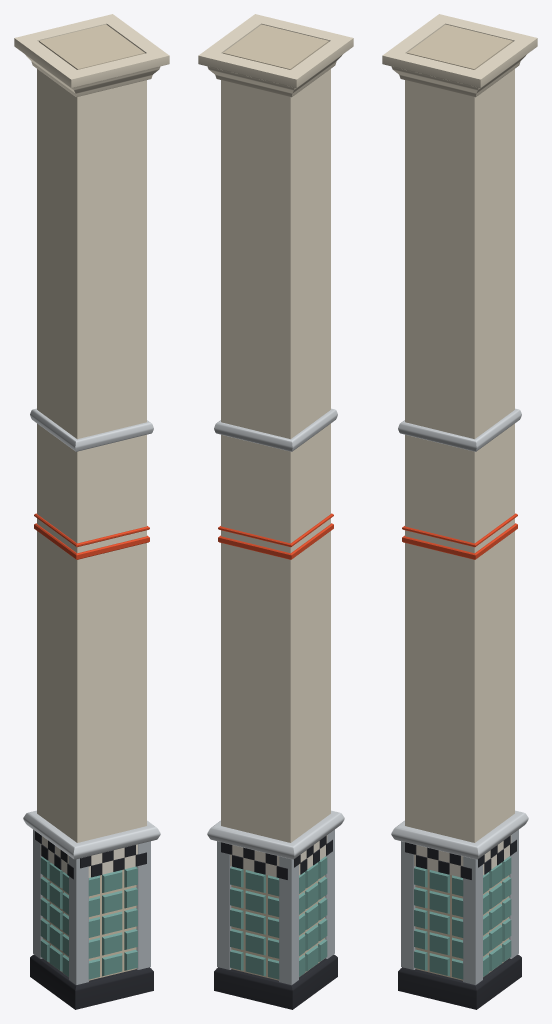
Rendered from Shop_WallCornerTall.fbx.
3 views of the same model, side by side, from view 1: azimuth 30°, elevation 25°; view 2: azimuth 150°, elevation 25°; view 3: azimuth 330°, elevation 25° (orthographic).
Visible parts, largest first — view 1: Upper, Tiles, CornerGuard, ChairRail, Baseboard, Core, Stripe, Grout, CheckerDark, CheckerLight; view 2: Upper, Tiles, CornerGuard, ChairRail, Baseboard, Core, Stripe, Grout, CheckerDark, CheckerLight; view 3: Upper, Tiles, CornerGuard, ChairRail, Baseboard, Core, Stripe, Grout, CheckerDark, CheckerLight.
Part boxes in pixels (x1,y1,x2,y2): Upper: (14, 14, 169, 842); Tiles: (40, 856, 137, 979); CornerGuard: (33, 829, 150, 984); ChairRail: (23, 408, 160, 859); Baseboard: (30, 954, 153, 1009); Core: (39, 24, 144, 69); Stripe: (34, 513, 149, 559); Grout: (42, 862, 136, 980); CheckerDark: (35, 831, 146, 879); CheckerLight: (40, 836, 137, 877); Upper: (198, 14, 353, 842); Tiles: (230, 856, 327, 979); CornerGuard: (217, 829, 334, 984); ChairRail: (207, 408, 344, 859); Baseboard: (214, 954, 337, 1009); Core: (223, 24, 328, 69); Stripe: (218, 513, 333, 559); Grout: (231, 862, 325, 980); CheckerDark: (221, 835, 332, 879); CheckerLight: (230, 835, 327, 877); Upper: (382, 14, 537, 842); Tiles: (414, 856, 511, 979); CornerGuard: (401, 829, 518, 984); ChairRail: (391, 408, 528, 859); Baseboard: (398, 954, 521, 1009); Core: (407, 24, 512, 69); Stripe: (402, 513, 517, 559); Grout: (415, 862, 509, 980); CheckerDark: (405, 835, 516, 879); CheckerLight: (414, 835, 511, 877).
Size of the model in its own units: 220 by 2000 by 220.
